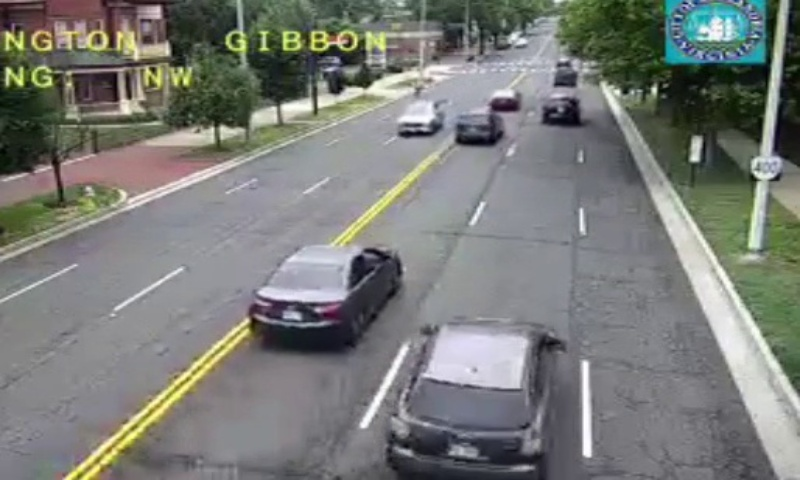car: (385, 316, 550, 480), (247, 245, 401, 330), (454, 111, 498, 145), (541, 96, 578, 124), (487, 90, 518, 111)
